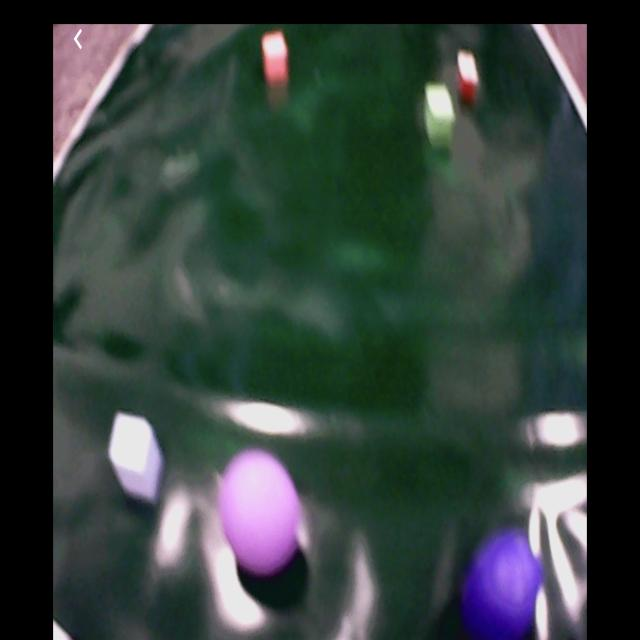ball: (221, 452, 306, 571), (467, 533, 542, 638)
